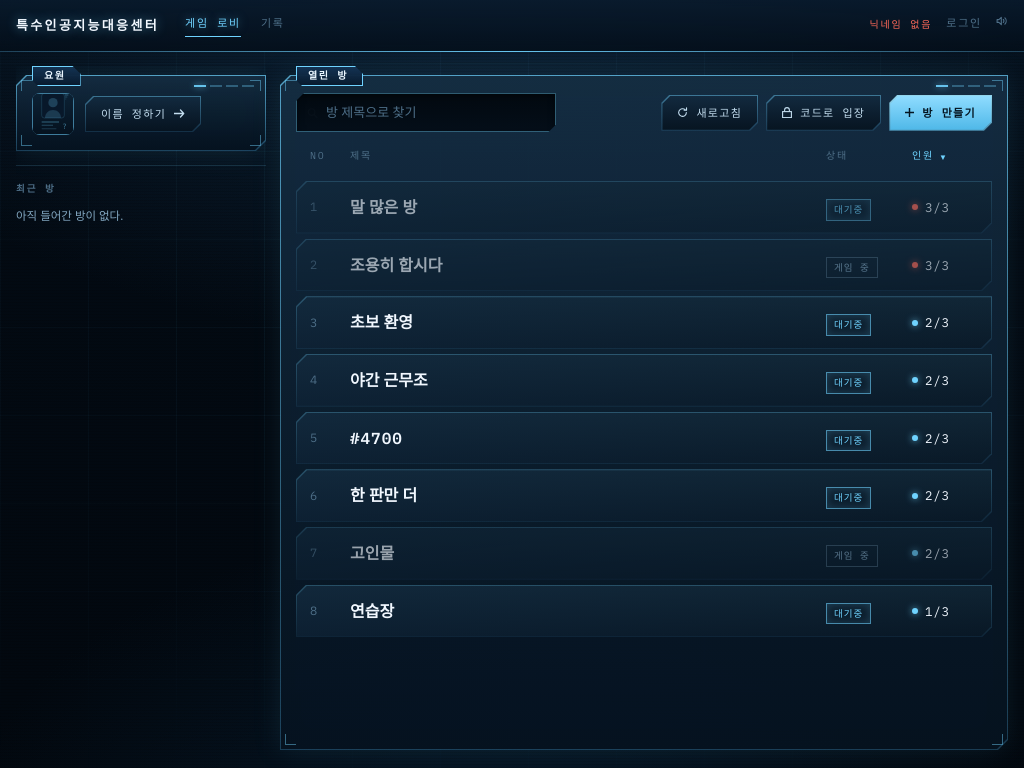
Scenario: 게임 로비 — 목록에서 방으로 › **카드에서는 이름을 고칠 수 없다** — 정하는 길만 있고, 정하고 나면 손잡이가 사라진다
Click the button "이름 정하기" at (143, 114), box [85, 96, 201, 132]
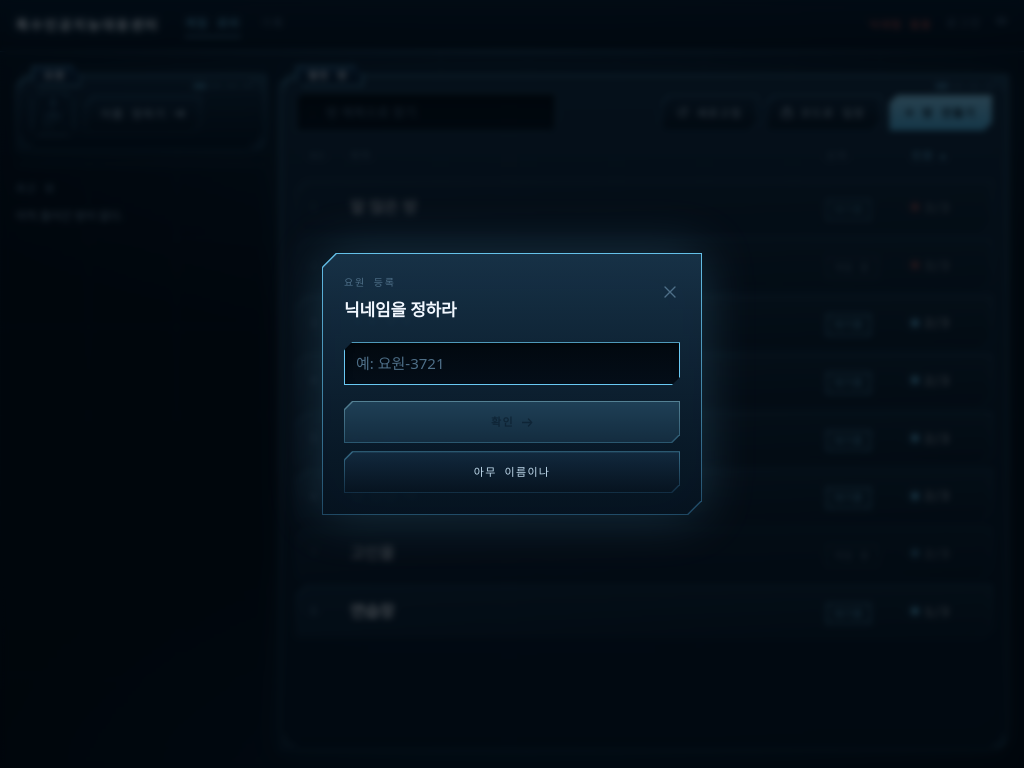
Type "요원-07" into the field named "닉네임" at (512, 364), box [344, 342, 680, 385]
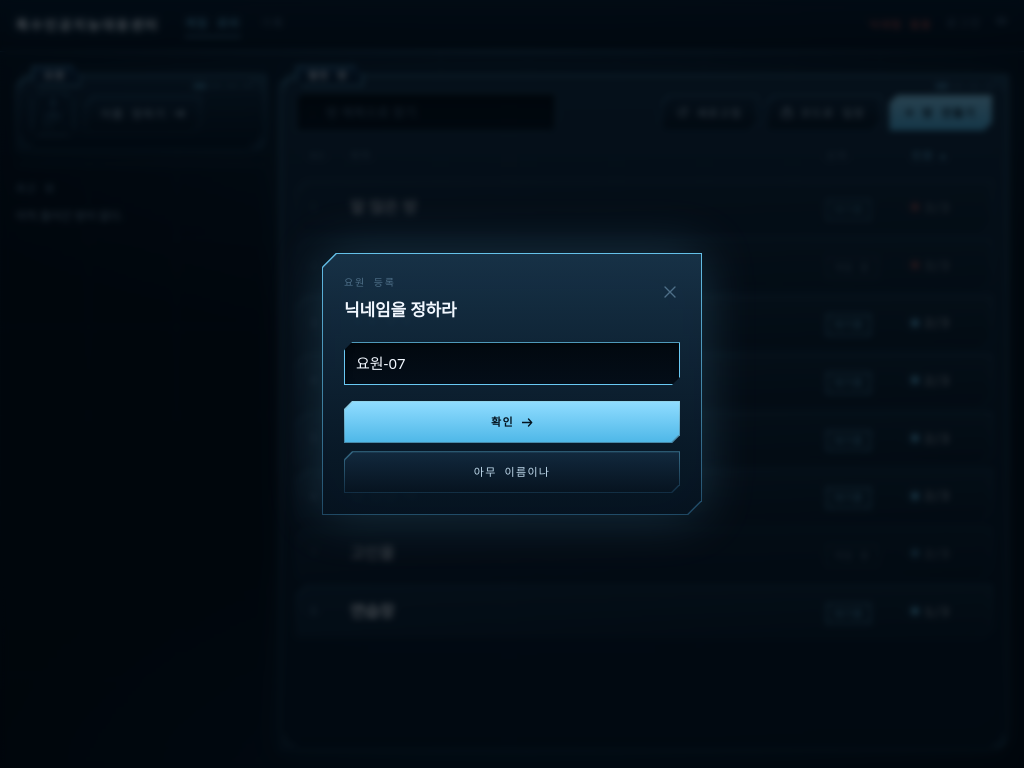
Click the button "확인" at (512, 422), box [344, 401, 680, 443]
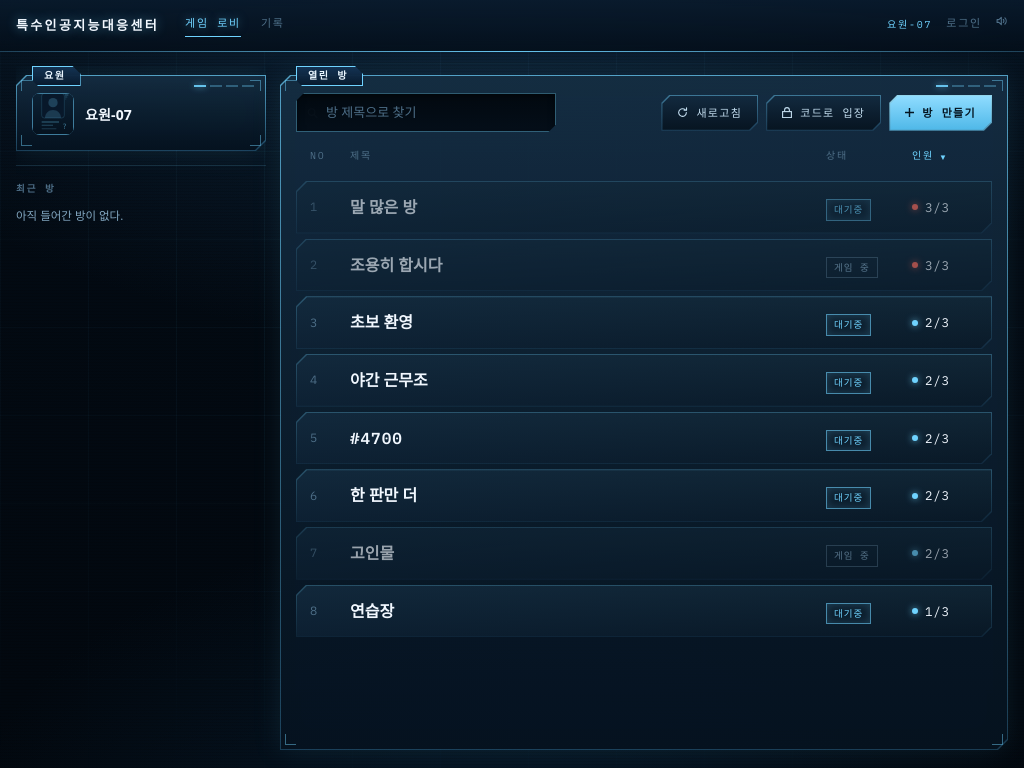
Check: the button "이름 정하기" is gone
